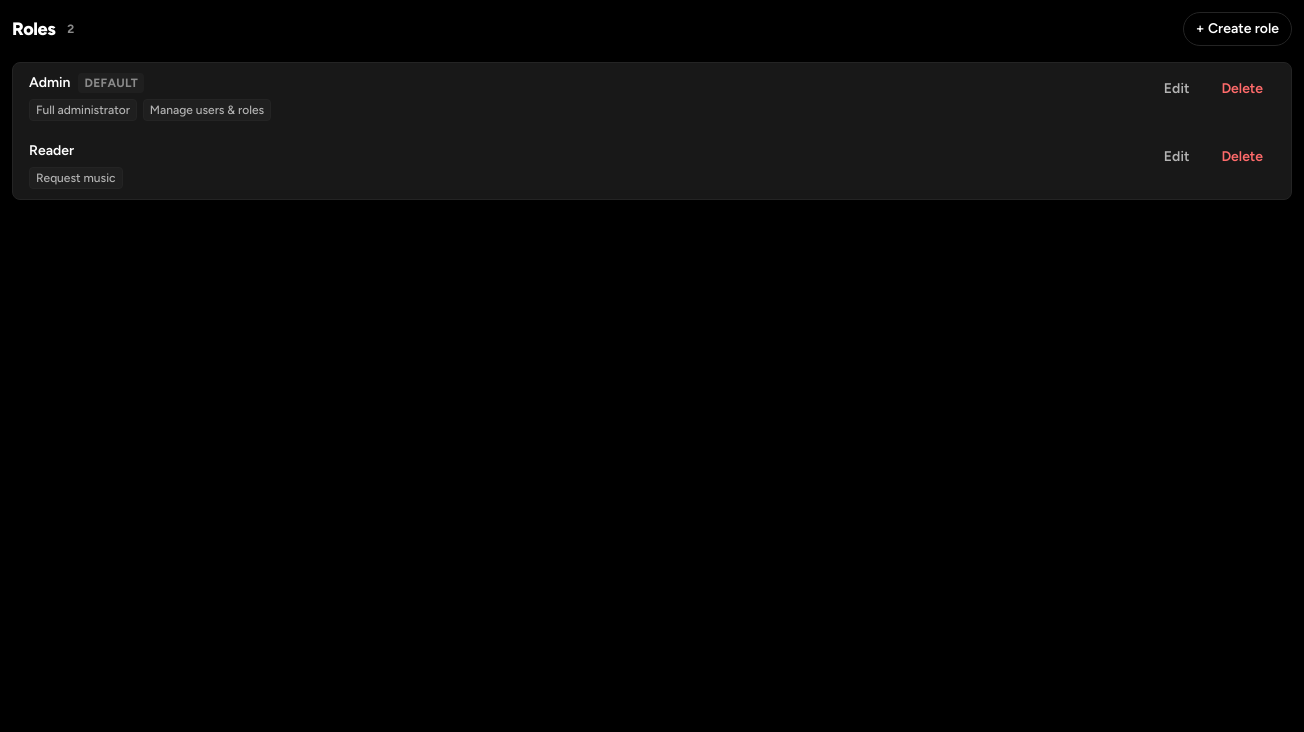
Test: RolesSection › clicking Edit on custom role opens the capability checklist
// Click the second Edit button (custom role is second)
Click the button "Edit" in the row of "Reader": (1177, 157) [1152,141,1201,173]
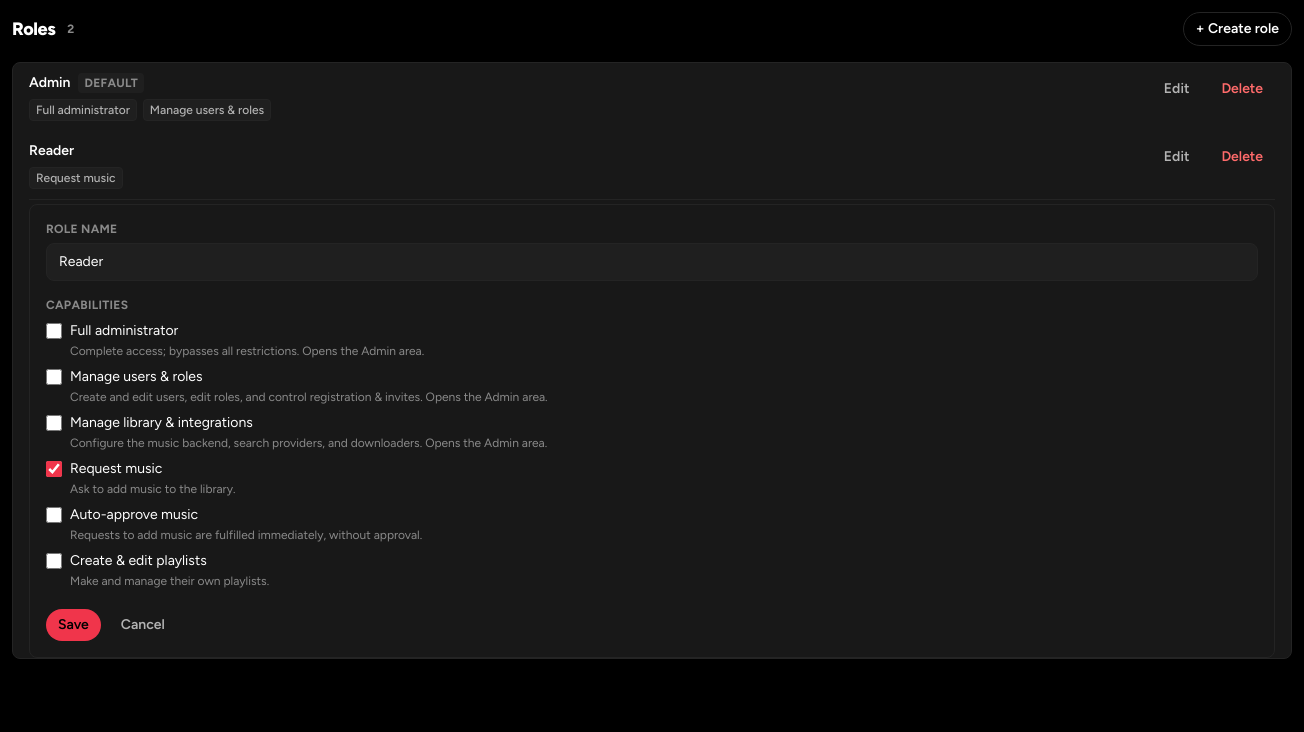
expect the checkbox labelled "Auto-approve music" is shown: met, box [46,507,62,523]
